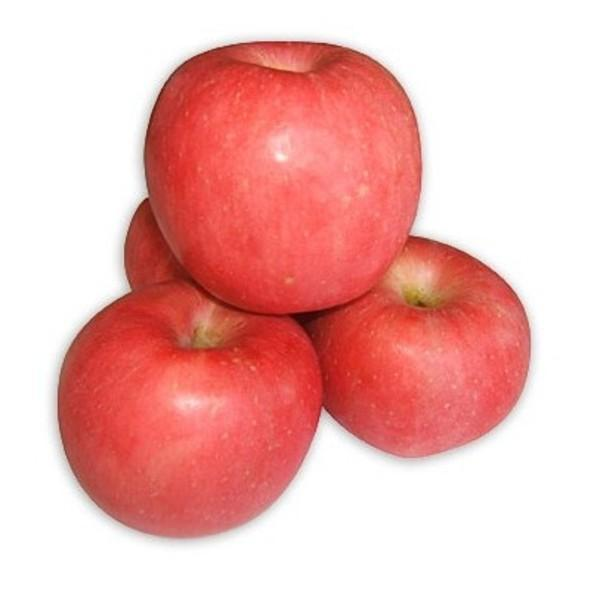apple: (144, 41, 420, 309), (56, 283, 328, 546), (308, 243, 536, 465)
